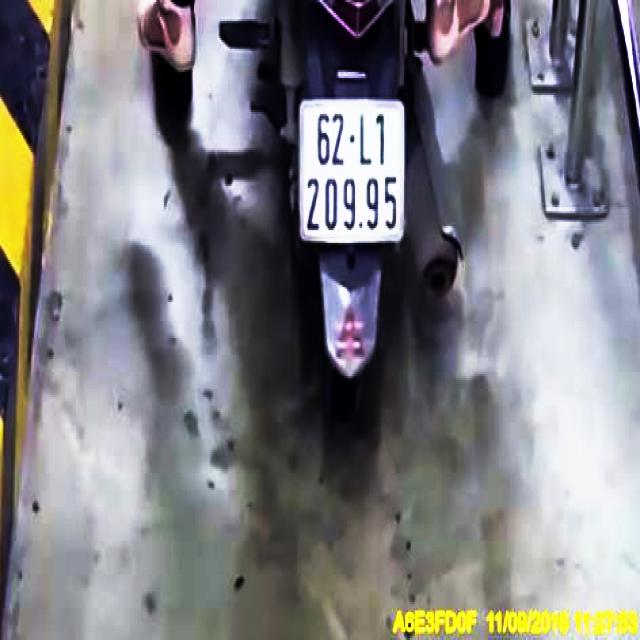license_plate: (300, 106, 403, 240)
